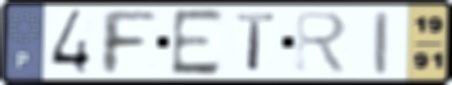4: (46, 8, 96, 77)
E: (169, 7, 226, 79)
F: (97, 8, 161, 77)
I: (372, 9, 391, 77)
R: (293, 9, 351, 76)
T: (234, 11, 278, 74)
